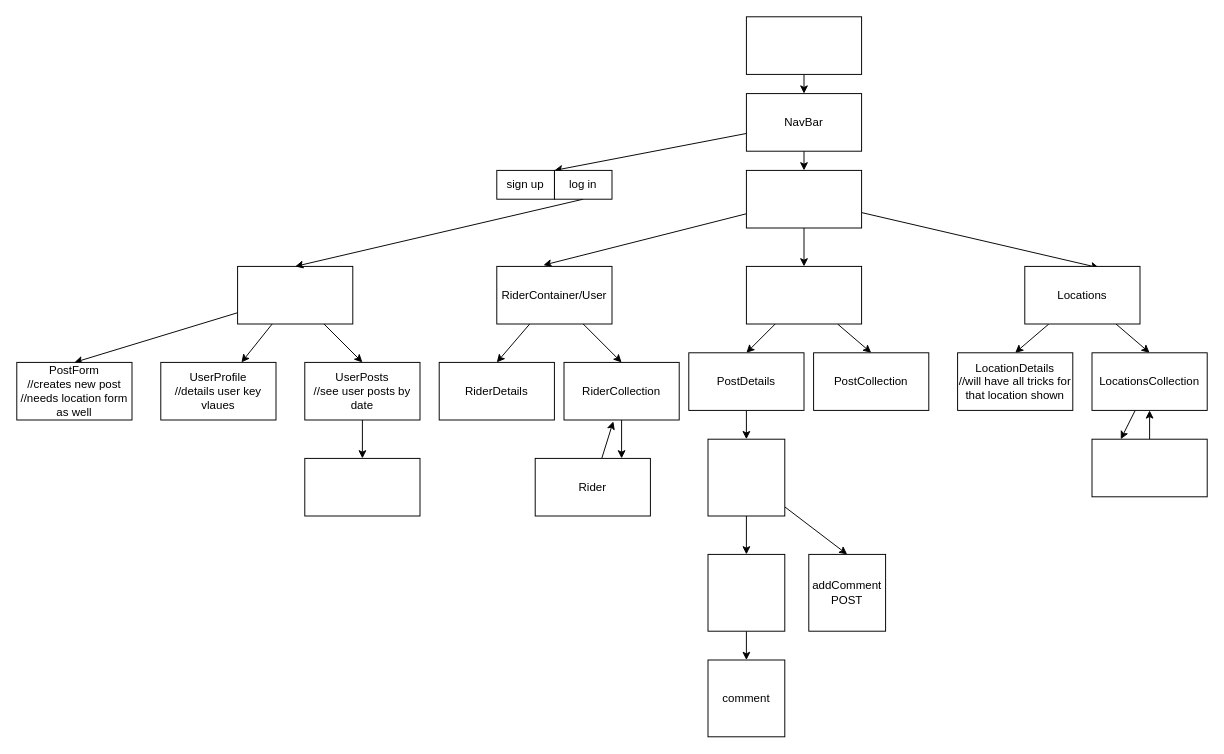
Some shapes in this 1224 by 754 pixel diagram are drawn without their labels. Here are the shapes that lost their labels. From the top down, the centre of each, then its label:
At (803,45): "App.js".
At (803,198): "NAME_of_APP".
At (295,294): "User".
At (803,294): "Tricks/Posts Container //landing?".
At (362,486): "userPost".
At (746,477): "post".
At (1149,467): "Location".
At (746,592): "Comments Collection".
